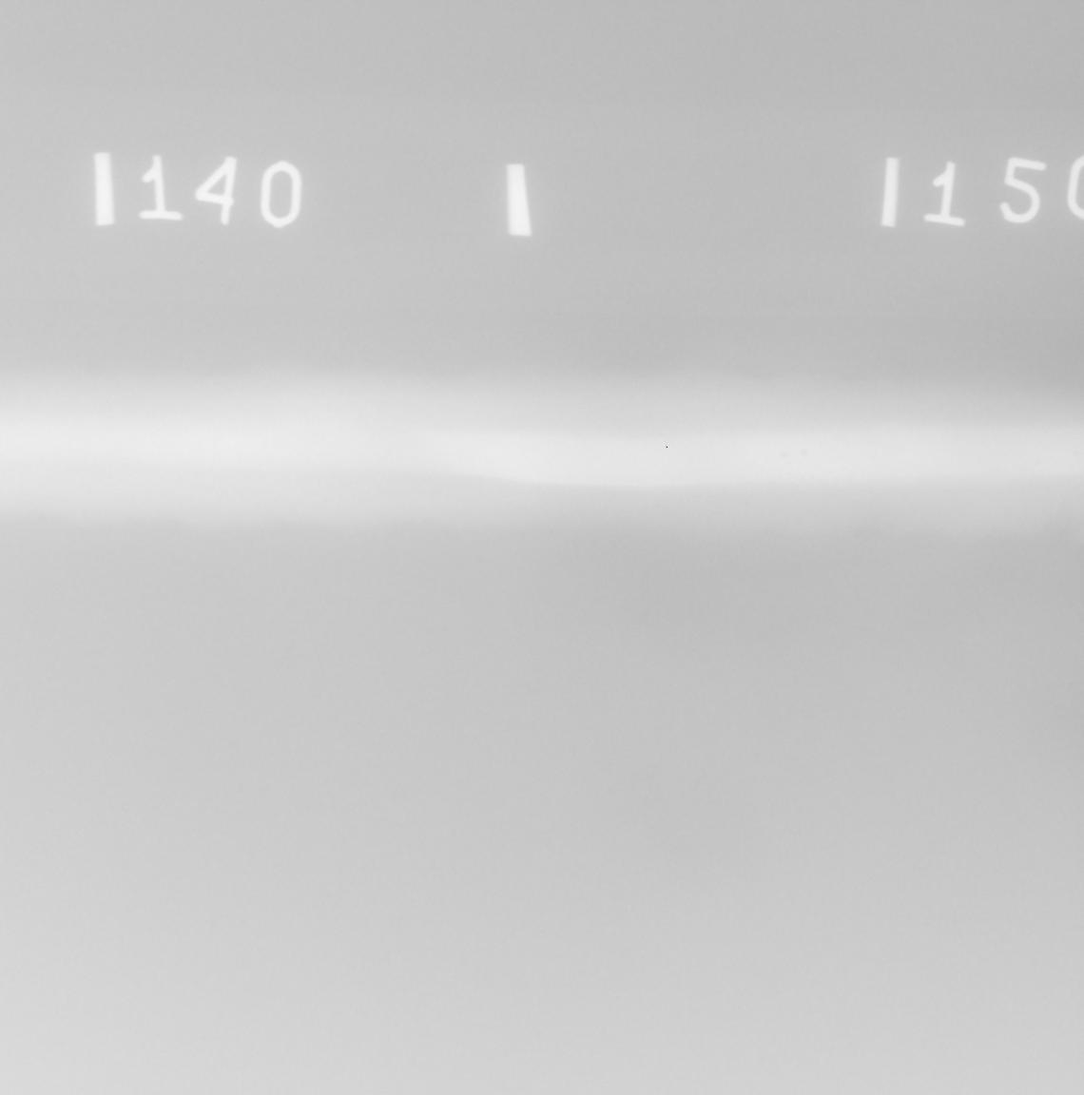Pore/Porosity: (780, 451, 789, 460), (802, 450, 809, 459), (787, 461, 794, 468), (1035, 462, 1041, 466)
